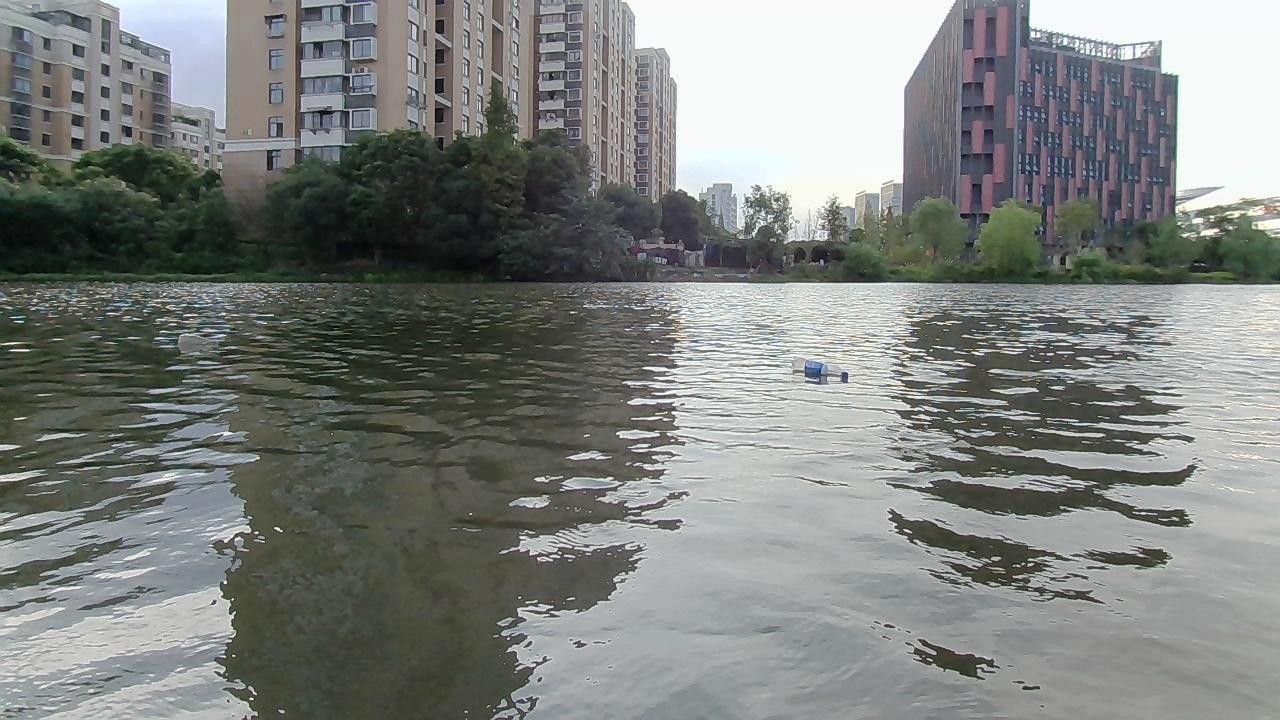bottle: (783, 357, 851, 388)
